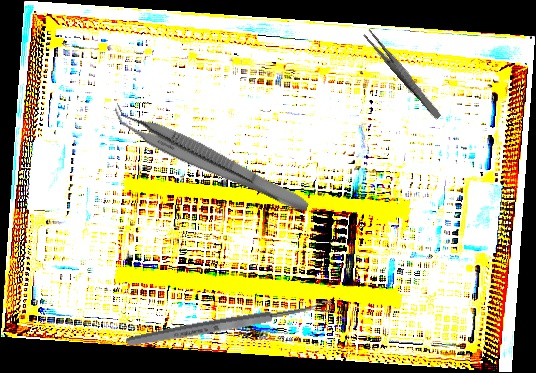Dressing Forceps: (362, 28, 444, 121)
Surgical Spoon: (125, 299, 333, 349)
Tissue Forceps: (106, 101, 316, 216)
